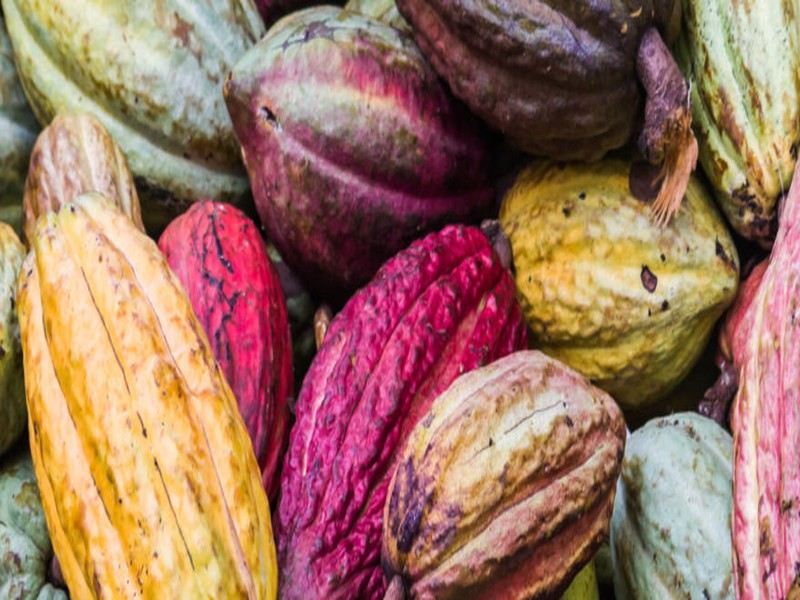Cacaopod: (14, 188, 282, 600)
